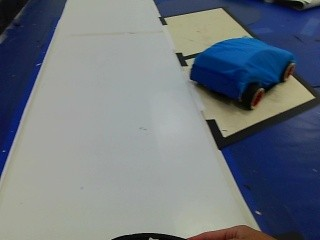car: (176, 36, 304, 115)
